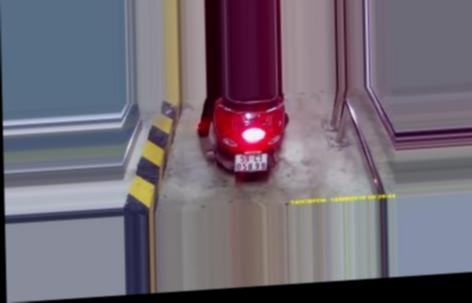License_Plate: (232, 146, 270, 179)
